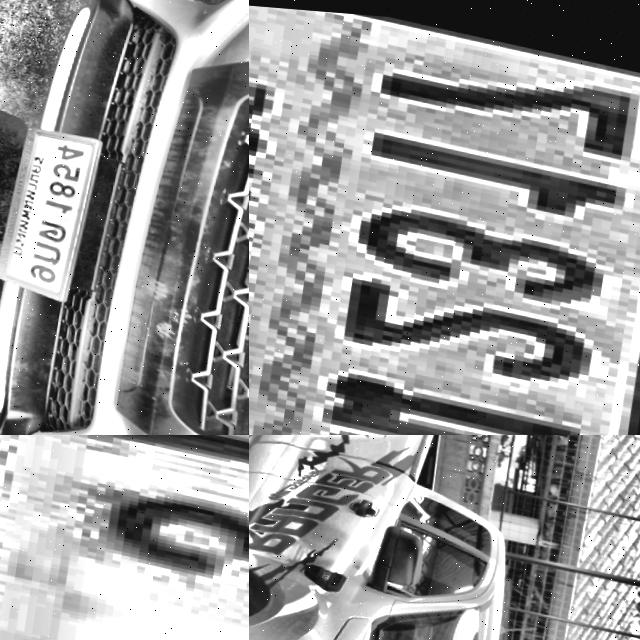license-plate: (249, 0, 640, 435), (0, 435, 249, 640), (0, 111, 109, 305)
